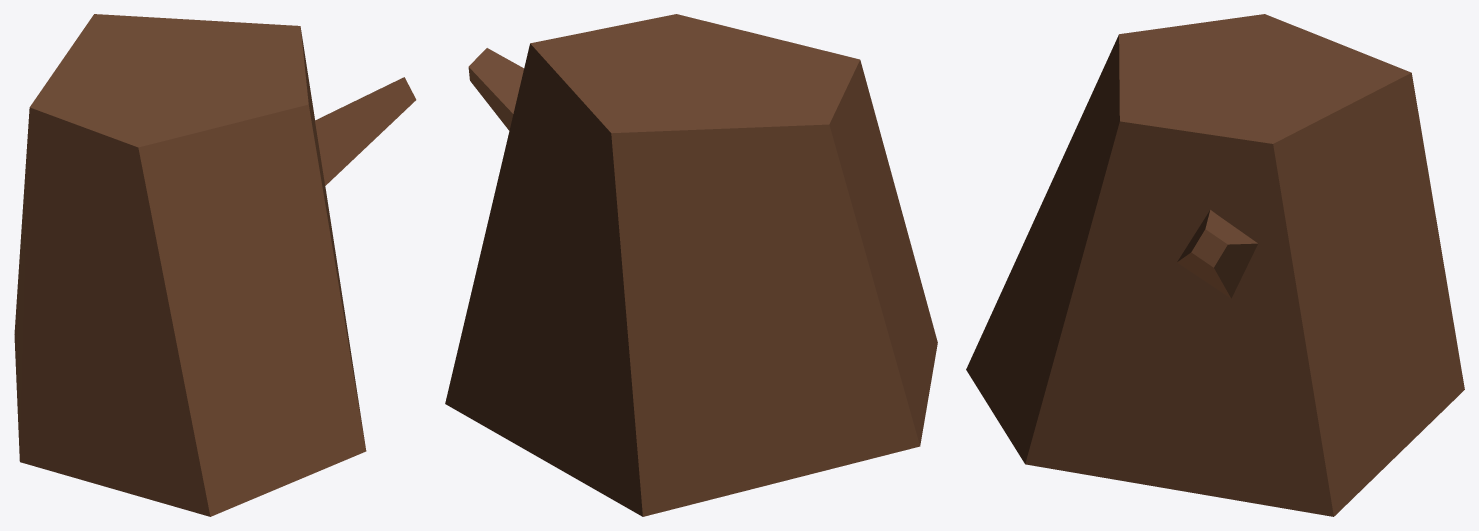
File: StumpAutumn1_Alt1.fbx
3 views of the same model, side by side, from view 1: azimuth 30°, elevation 25°; view 2: azimuth 150°, elevation 25°; view 3: azimuth 270°, elevation 25° (orthographic). The views are drawn at different scales.
Parts seen in each view (by area): view 1: StumpAutumn1_Alt1; view 2: StumpAutumn1_Alt1; view 3: StumpAutumn1_Alt1.
Part boxes in pixels (<box>): StumpAutumn1_Alt1: <box>14,14,416,516</box>; StumpAutumn1_Alt1: <box>445,14,937,516</box>; StumpAutumn1_Alt1: <box>966,14,1464,516</box>.
Size of the model in its own units: 0.5186 by 0.3998 by 0.5206.
